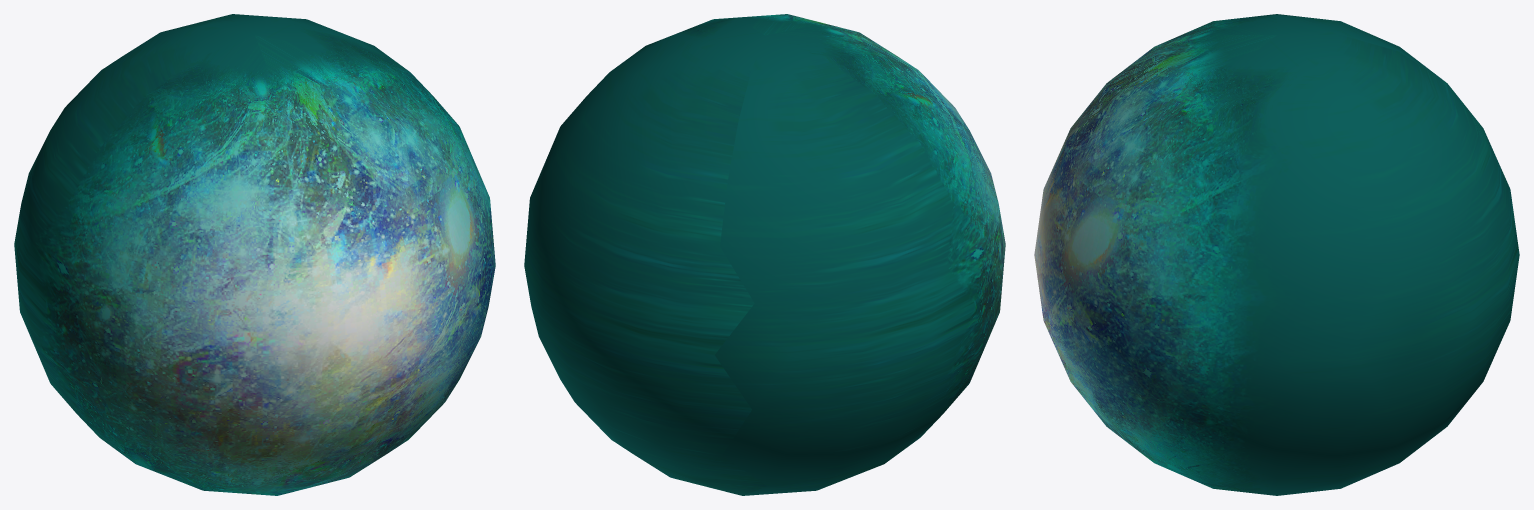
Rendered from Crystal Ball.dae.
The picture shows the model from 3 angles, left to right: view 1: azimuth 30°, elevation 25°; view 2: azimuth 150°, elevation 25°; view 3: azimuth 270°, elevation 25°; orthographic projection.
Parts seen in each view (by area): view 1: Mesh_0.047; view 2: Mesh_0.047; view 3: Mesh_0.047.
Boxes of the visible parts, box(x1,y1,x2,y2) form: Mesh_0.047: box(14, 14, 495, 495); Mesh_0.047: box(524, 14, 1005, 495); Mesh_0.047: box(1034, 14, 1519, 495).
Bounding box in the file's own units: 5.96 × 5.96 × 5.96.
Materials: 1 (1 with a texture image).
